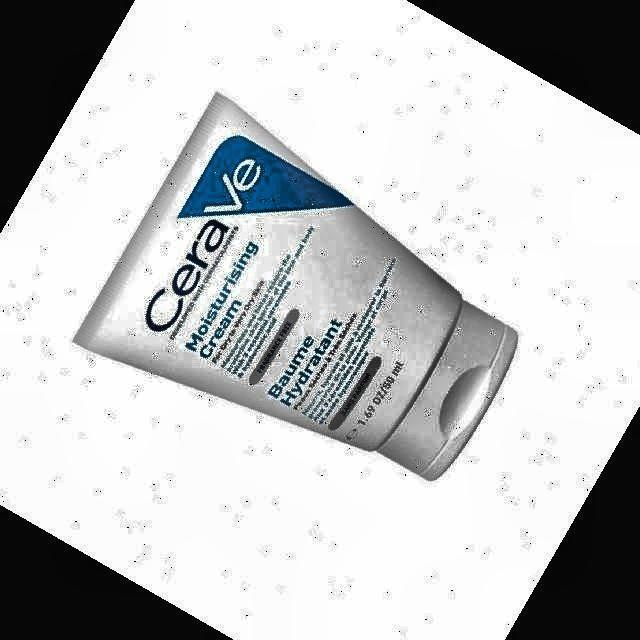plastic: (75, 94, 516, 479)
